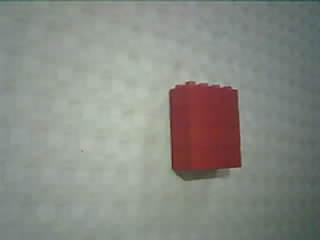lego: (167, 80, 243, 172)
